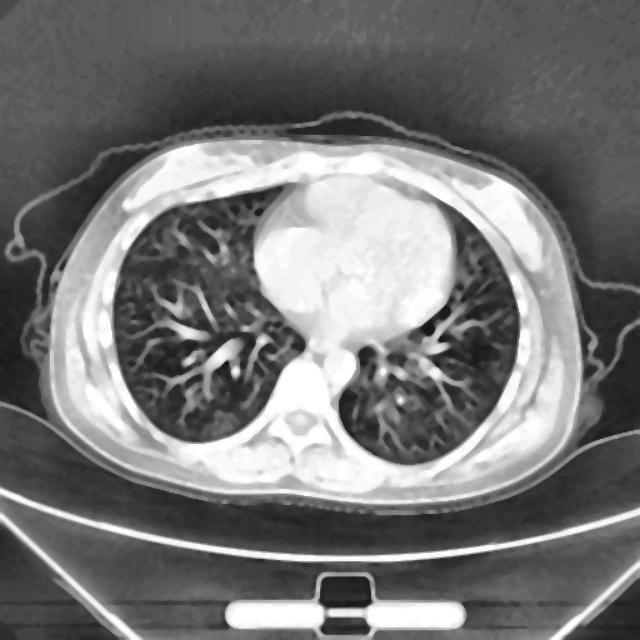covid: (33, 120, 589, 513)
